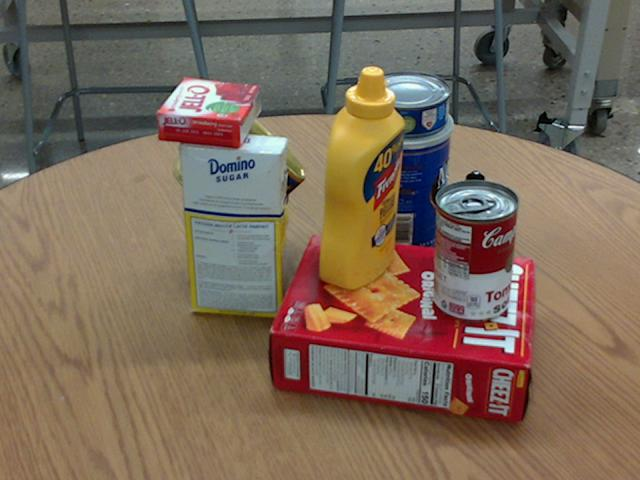cracker_box: (272, 233, 535, 422)
gelatin_box: (157, 77, 261, 146)
large_marker: (456, 171, 483, 282)
master_chef_can: (350, 98, 455, 261)
mug: (194, 171, 287, 280)
mustard_bottle: (318, 65, 404, 289)
potted_meat_can: (174, 106, 306, 235)
sugar_box: (178, 129, 288, 319)
tomato_soup_can: (433, 178, 519, 321)
tuna_fish_can: (365, 71, 451, 135)
